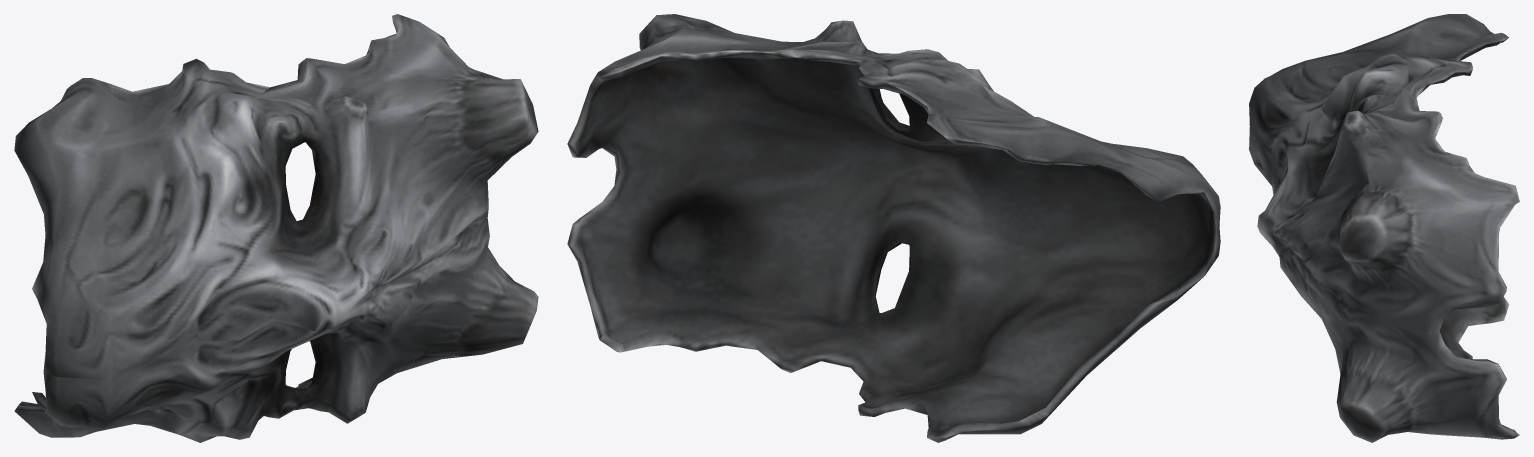
Rendered from M_MuteMask.fbx.
3 views of the same model, side by side, from view 1: azimuth 30°, elevation 25°; view 2: azimuth 150°, elevation 25°; view 3: azimuth 270°, elevation 25° (orthographic). The views are drawn at different scales.
Visible parts, largest first — view 1: Mask3; view 2: Mask3; view 3: Mask3.
Boxes of the visible parts, x1,y1,x2,y2 form: Mask3: (14,14,538,442); Mask3: (567,14,1220,442); Mask3: (1249,14,1519,442).
Bounding box in the file's own units: 0.1658 × 0.1012 × 0.0829.
